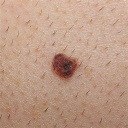Melanoma: (50, 51, 79, 80)
